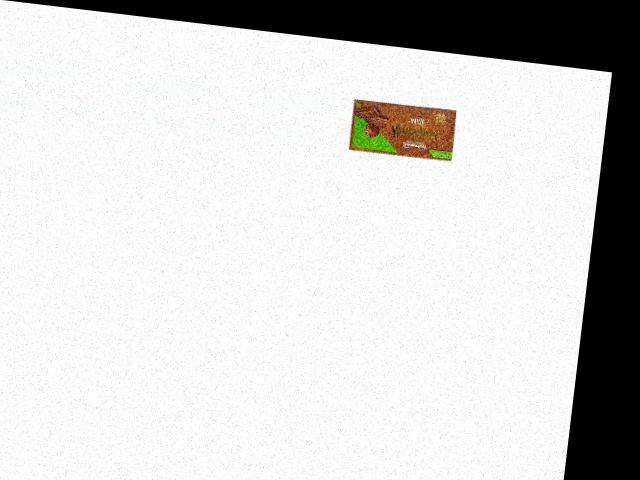chocolate: (346, 93, 462, 164)
